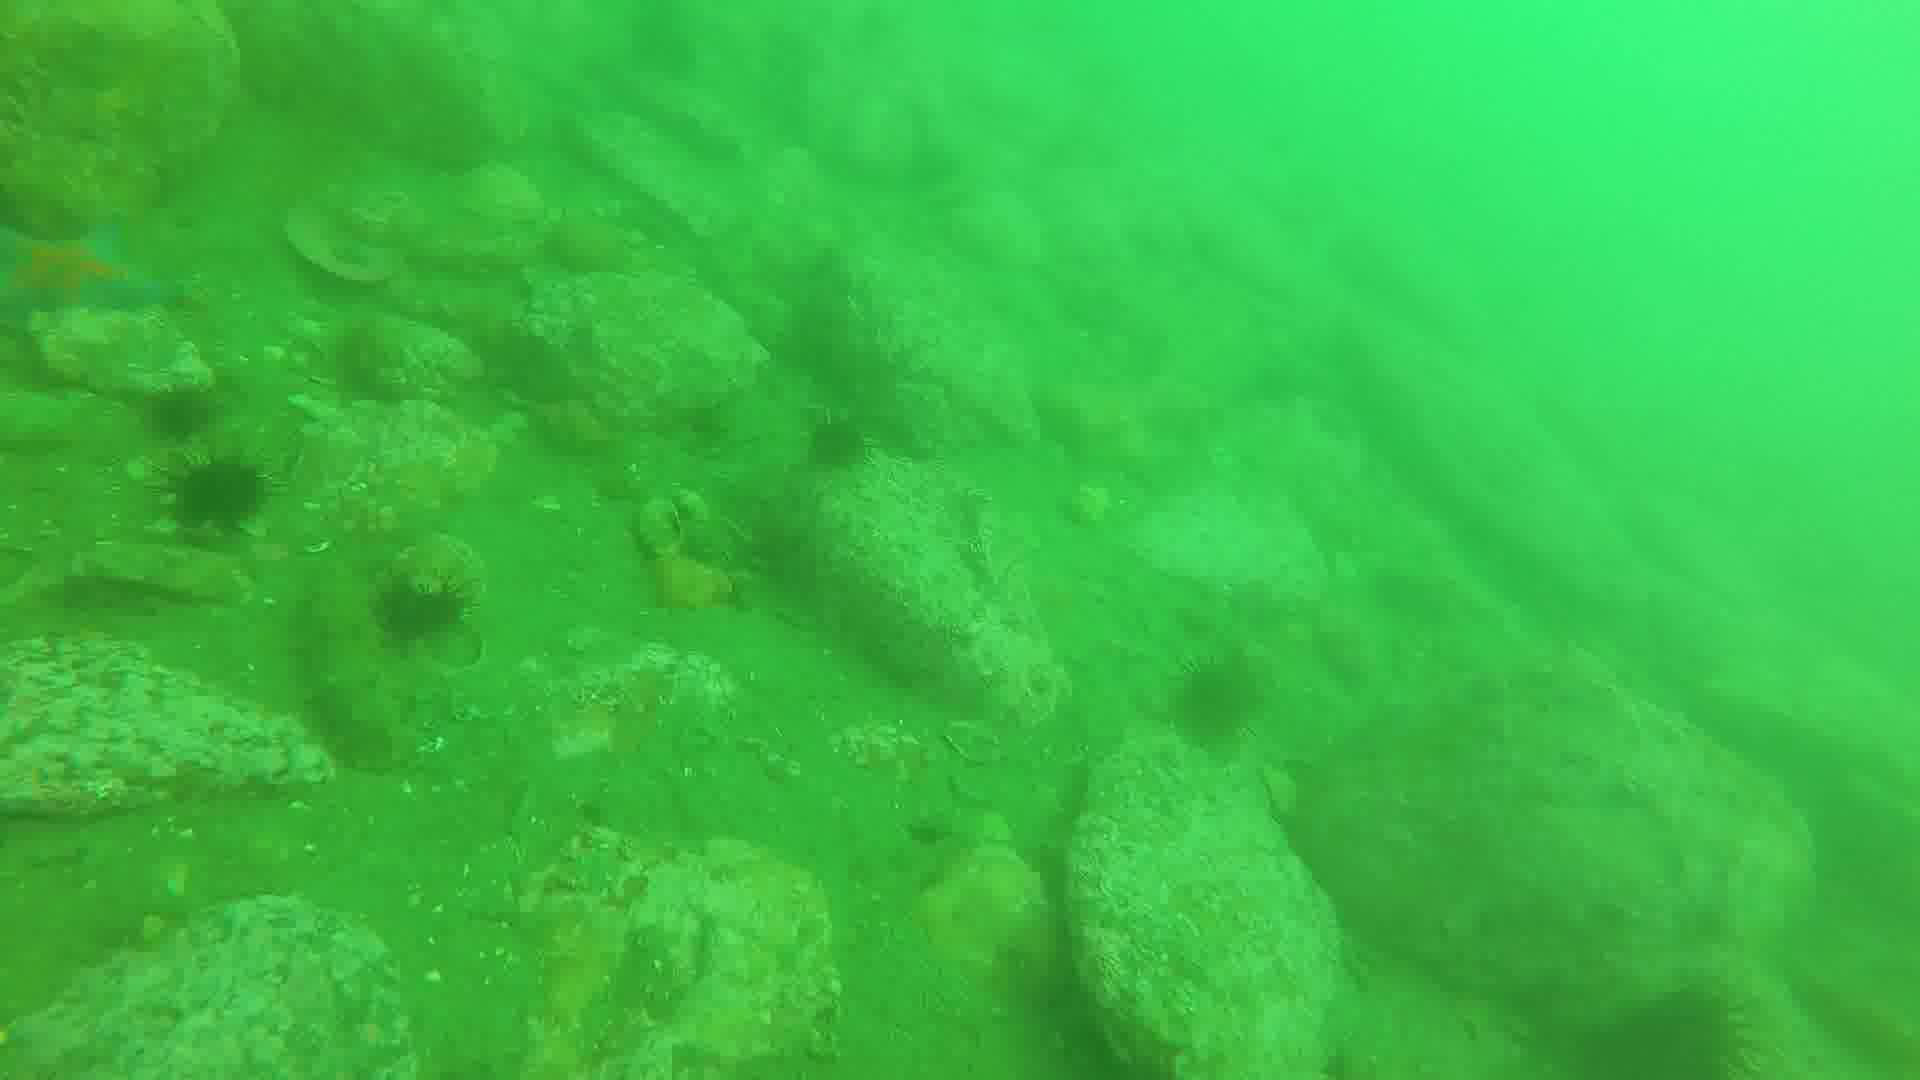echinus: (1625, 985, 1745, 1080), (1170, 651, 1265, 740), (175, 462, 276, 531), (385, 575, 465, 649), (148, 384, 219, 439), (807, 409, 869, 469)
starfish: (1, 225, 193, 343)
